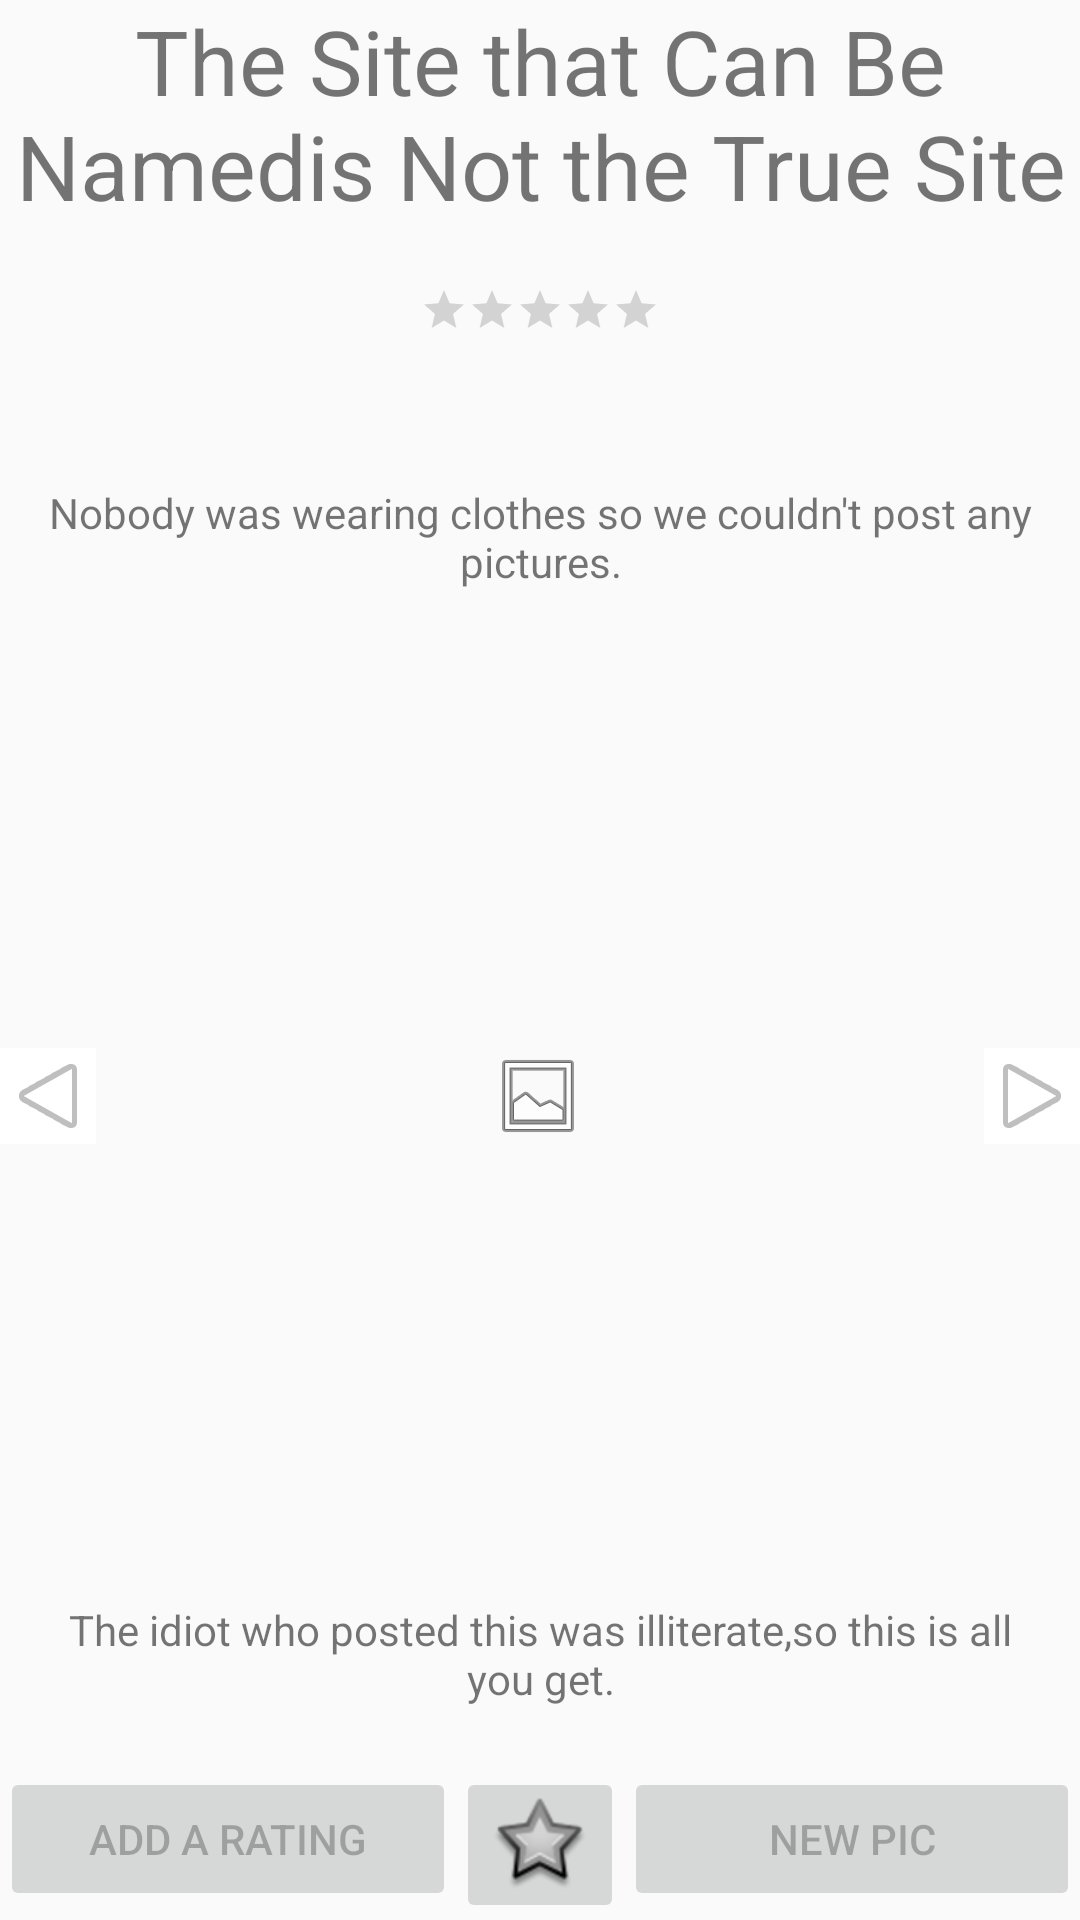

Screen size 1080x1920. Icon name, then its box in pixels as detection(x1, y1, x2, y2):
gallery: detection(502, 1060, 574, 1132)
star off: detection(468, 1785, 612, 1905)
